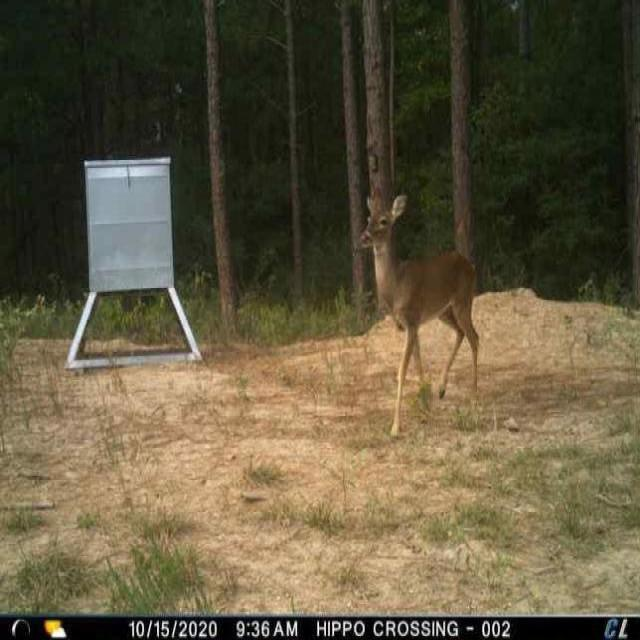deer: (358, 186, 483, 441)
